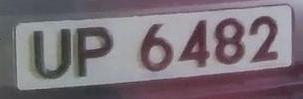2: (245, 11, 283, 69)
4: (175, 16, 216, 75)
6: (135, 17, 179, 77)
8: (210, 14, 249, 73)
P: (70, 20, 118, 84)
U: (27, 23, 79, 86)
